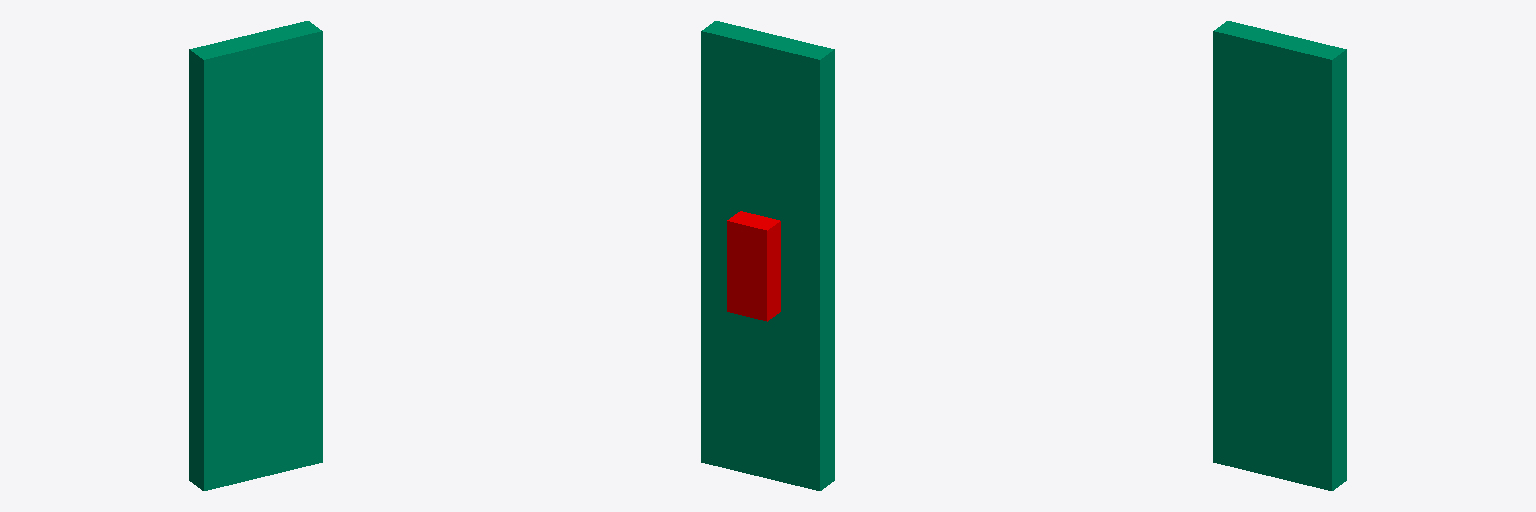
The robot description file, URDF, robot "knife":
<?xml version='1.0' encoding='utf-8'?>
<robot name="knife">
  <link name="base" /><joint name="joint_0" type="fixed"><origin xyz="0 0 0" rpy="0 0 0" /><parent link="base" /><child link="link_0" /></joint><link name="link_1">
    <visual name="link_1">
      <origin xyz="0 0.008148 0" rpy="0 0 0" />
      <geometry>
        <box size="0.013613599754084134 0.007911153957724407 0.029175356284602702" /></geometry>
    <material name="red"><color rgba="1 0 0 1" /></material></visual>
    <collision>
      <origin xyz="0 0.008148 0" rpy="0 0 0" />
      <geometry>
        <box size="0.013613599754084134 0.007911153957724407 0.029175356284602702" /></geometry>
    </collision>
    </link>
  <joint name="joint_1" type="prismatic">
    <origin xyz="0 0 0" />
    <axis xyz="0 0 1" />
    <child link="link_1" />
    <parent link="link_0" />
    <limit lower="-0.029001" upper="0.020999" effort="100.0" velocity="1.0" />
  </joint>
  <link name="link_0">
    <visual name="link_0">
      <origin xyz="0 0 0" />
      <geometry>
        <box size="0.03981140486986727 0.008384198733768987 0.13832293017737426" /></geometry>
    </visual>
    <collision>
      <origin xyz="0 0 0" />
      <geometry>
        <box size="0.03981140486986727 0.008384198733768987 0.13832293017737426" /></geometry>
    </collision>
    </link>
</robot>

--- Facts derived from the render (not from the file) ---
3 views of the same robot in one strip: view 1: azimuth 30°, elevation 25°; view 2: azimuth 150°, elevation 25°; view 3: azimuth 330°, elevation 25° (orthographic).
Robot: knife — 3 links, 2 joints (1 prismatic, 1 fixed); root link base; default pose: all joints at 0.
Links seen in each view (by area): view 1: link_0; view 2: link_0, link_1; view 3: link_0.
Link boxes in pixels (left/top/right/bottom): link_0: left=189, top=21, right=322, bottom=490; link_0: left=701, top=21, right=834, bottom=490; link_1: left=727, top=211, right=780, bottom=321; link_0: left=1213, top=21, right=1346, bottom=490.
Bounding box of the posed robot: 0.0398 × 0.0163 × 0.1383 m (x, y, z).
Geometry: primitives only (box / cylinder / sphere), no mesh files.
